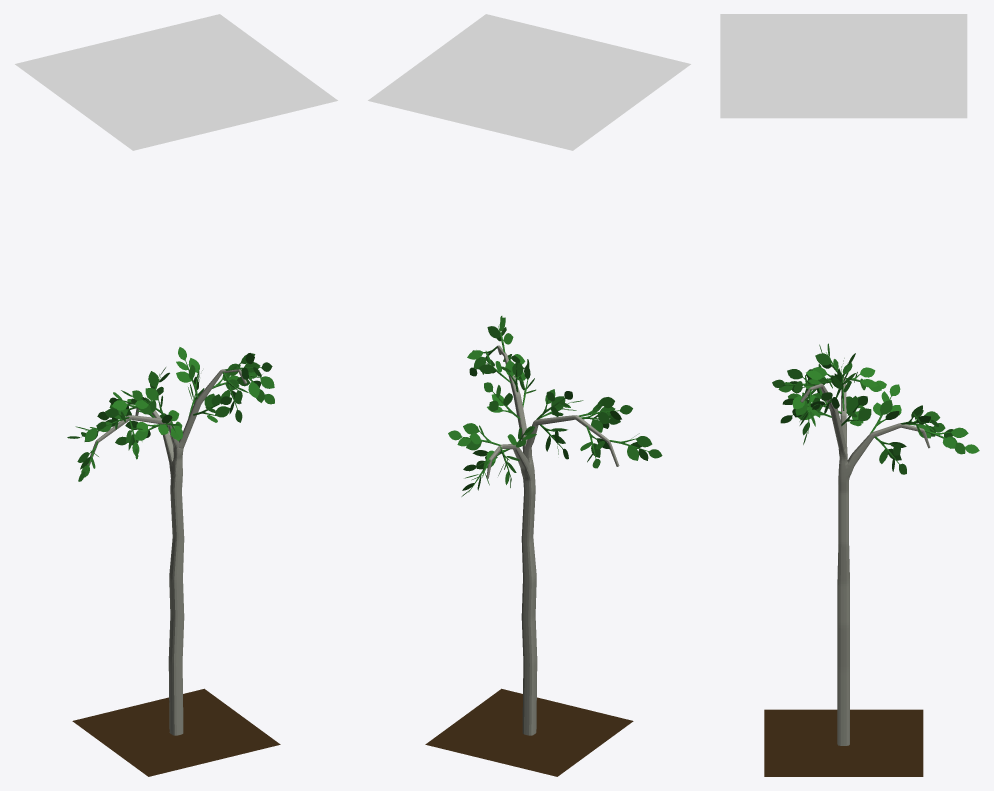
The model's file is wangtianshu.fbx.
3 renders of one model, left to right at view 1: azimuth 30°, elevation 25°; view 2: azimuth 150°, elevation 25°; view 3: azimuth 270°, elevation 25°, orthographic. The views are drawn at different scales.
Visible parts, largest first — view 1: Plane.020, Cube; view 2: Plane.020, Cube; view 3: Plane.020, Cube.
Part boxes in pixels (x1=…): Plane.020: x1=15, y1=14, x2=337, y2=150; Cube: x1=67, y1=347, x2=280, y2=776; Plane.020: x1=368, y1=14, x2=690, y2=150; Cube: x1=425, y1=316, x2=662, y2=776; Plane.020: x1=720, y1=14, x2=967, y2=118; Cube: x1=764, y1=343, x2=979, y2=776.
Bounding box in the file's own units: 1543 × 4390 × 1524.
